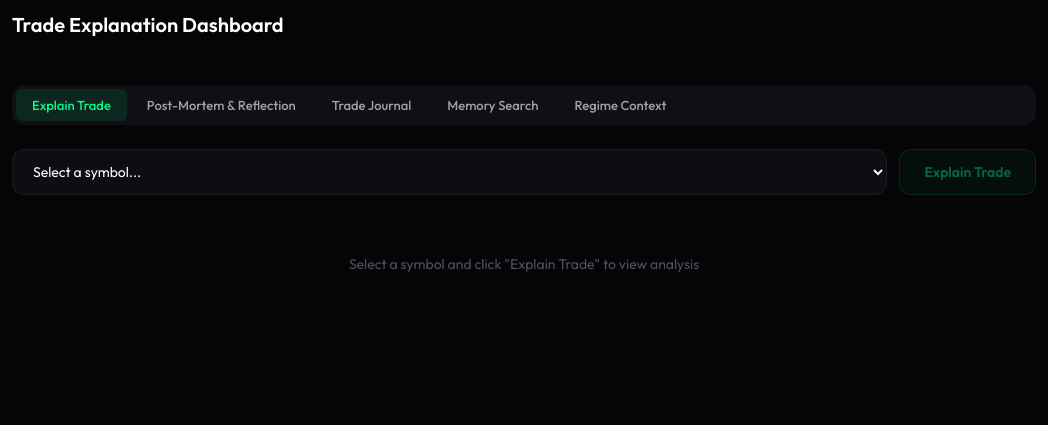
TradeIntelligence - Scenario 5: Trade Journal Tab › Displays journal stats cards
Click the button "Trade Journal".
click(372, 105)  # box [316,89,427,121]
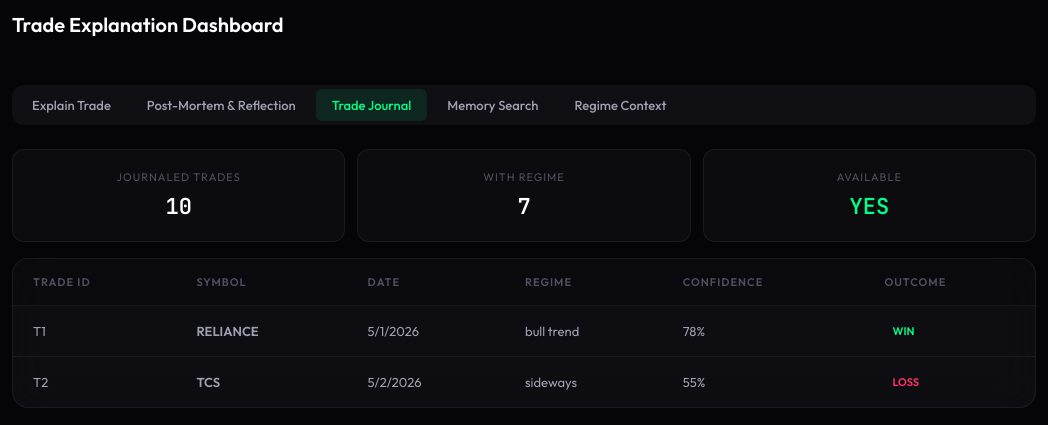
expect the text "Journaled Trades" is shown: met, box [117,170,241,184]
expect the text "With Regime" is shown: met, box [483,170,565,184]
expect the text "Available" is shown: met, box [837,170,902,184]
